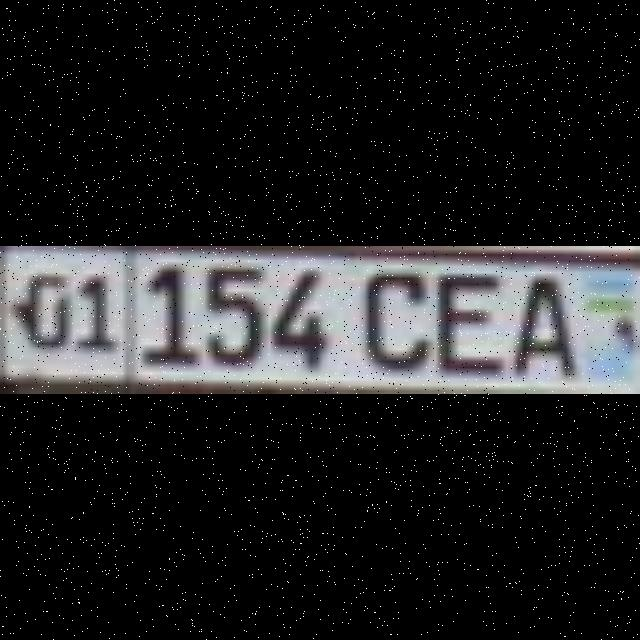0: (18, 270, 59, 340)
1: (136, 258, 190, 358), (66, 270, 106, 346)
4: (260, 258, 314, 358)
5: (196, 258, 254, 358)
A: (503, 264, 562, 370)
C: (356, 264, 420, 364)
E: (426, 264, 492, 370)
